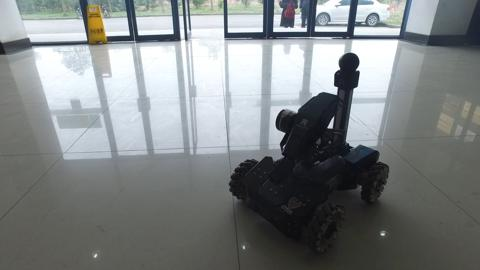car: (297, 1, 393, 27)
chariot: (226, 50, 390, 257)
